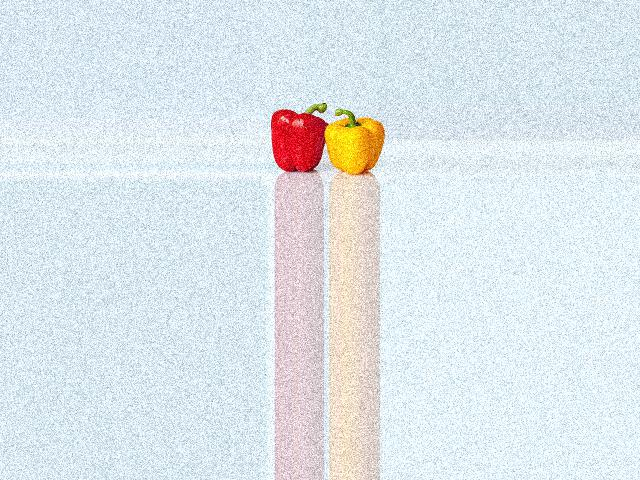bell_pepper: (265, 105, 329, 179)
